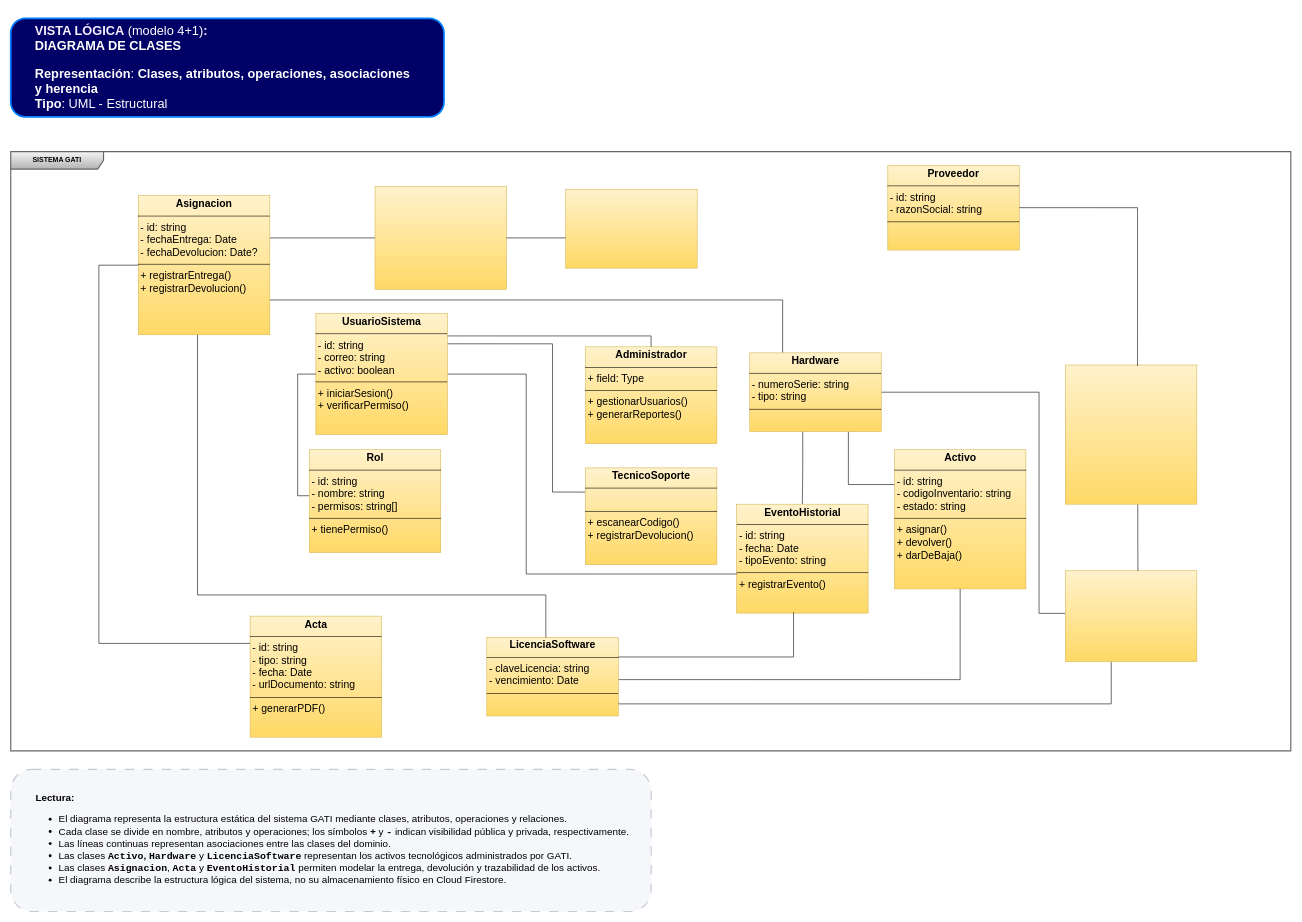
This 1302x922 diagram has some shape labels left out. The shapes that lost their labels are listed below. From the top down, each one's box as (x1, y1, x2, y2) in pixels, then its label:
(374, 186, 507, 289): Funcionario - id: string - rut: string - nombre: string - unidadId: string
(565, 189, 697, 268): Unidad - id: string - nombre: string
(1065, 364, 1197, 504): OrdenCompra - id: string - numeroOC: string - fecha: Date + incorporarItems()
(1065, 570, 1197, 662): ItemCompra - id: string - descripcion: string - cantidad: number
